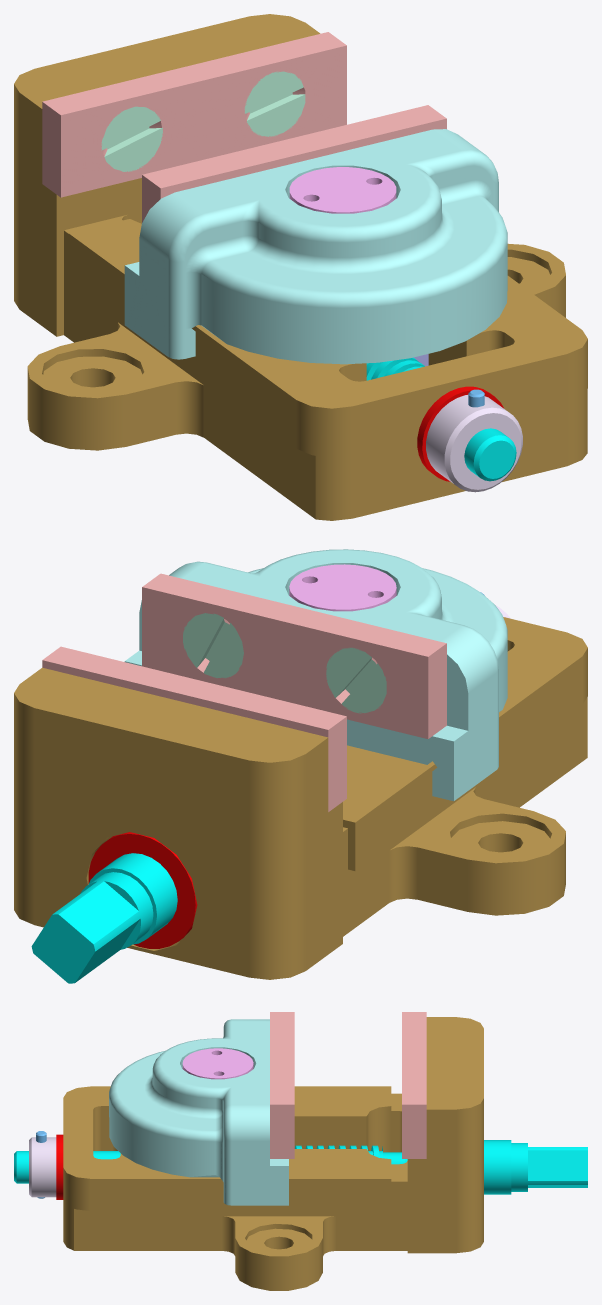
The model's file is 虎钳_assembled.glb.
The picture shows the model from 3 angles, top to bottom: view 1: azimuth 30°, elevation 25°; view 2: azimuth 150°, elevation 25°; view 3: azimuth 270°, elevation 25°; orthographic projection. The views are drawn at different scales.
Parts seen in each view (by area): view 1: PART_FIXED_BODY_01, PART_MOVING_BODY_01, PART_JAW_PLATE_01, PART_JAW_PLATE_02, PART_RING_01, PART_RETAINING_SCREW_01, PART_JAW_SCREW_M8_04, PART_JAW_SCREW_M8_03, PART_LEAD_SCREW_01, PART_WASHER_GB97_12_01; view 2: PART_FIXED_BODY_01, PART_MOVING_BODY_01, PART_JAW_PLATE_02, PART_LEAD_SCREW_01, PART_JAW_PLATE_01, PART_RETAINING_SCREW_01, PART_WASHER_GB97_16_01, PART_JAW_SCREW_M8_01, PART_JAW_SCREW_M8_02; view 3: PART_FIXED_BODY_01, PART_MOVING_BODY_01, PART_LEAD_SCREW_01, PART_JAW_PLATE_01, PART_JAW_PLATE_02, PART_RETAINING_SCREW_01, PART_RING_01, PART_WASHER_GB97_12_01.
Part boxes in pixels (left/top/right/bottom): PART_FIXED_BODY_01: left=14, top=14, right=587, bottom=520; PART_MOVING_BODY_01: left=124, top=129, right=507, bottom=364; PART_JAW_PLATE_01: left=42, top=32, right=346, bottom=197; PART_JAW_PLATE_02: left=142, top=105, right=446, bottom=222; PART_RING_01: left=426, top=395, right=522, bottom=492; PART_RETAINING_SCREW_01: left=289, top=167, right=396, bottom=213; PART_JAW_SCREW_M8_04: left=244, top=71, right=305, bottom=136; PART_JAW_SCREW_M8_03: left=101, top=106, right=162, bottom=171; PART_LEAD_SCREW_01: left=366, top=357, right=516, bottom=481; PART_WASHER_GB97_12_01: left=417, top=386, right=503, bottom=481; PART_FIXED_BODY_01: left=14, top=617, right=587, bottom=979; PART_MOVING_BODY_01: left=124, top=549, right=507, bottom=801; PART_JAW_PLATE_02: left=142, top=573, right=446, bottom=738; PART_LEAD_SCREW_01: left=31, top=853, right=177, bottom=983; PART_JAW_PLATE_01: left=42, top=646, right=346, bottom=811; PART_RETAINING_SCREW_01: left=289, top=564, right=396, bottom=611; PART_WASHER_GB97_16_01: left=88, top=832, right=197, bottom=948; PART_JAW_SCREW_M8_01: left=326, top=647, right=386, bottom=713; PART_JAW_SCREW_M8_02: left=183, top=613, right=243, bottom=678; PART_FIXED_BODY_01: left=63, top=1017, right=483, bottom=1290; PART_MOVING_BODY_01: left=109, top=1019, right=288, bottom=1205; PART_LEAD_SCREW_01: left=14, top=1140, right=587, bottom=1194; PART_JAW_PLATE_01: left=402, top=1012, right=426, bottom=1158; PART_JAW_PLATE_02: left=270, top=1012, right=294, bottom=1158; PART_RETAINING_SCREW_01: left=182, top=1048, right=253, bottom=1079; PART_RING_01: left=29, top=1137, right=56, bottom=1197; PART_WASHER_GB97_12_01: left=56, top=1134, right=63, bottom=1199.
Size of the model in its own units: 0.1452 by 0.06 by 0.21.
